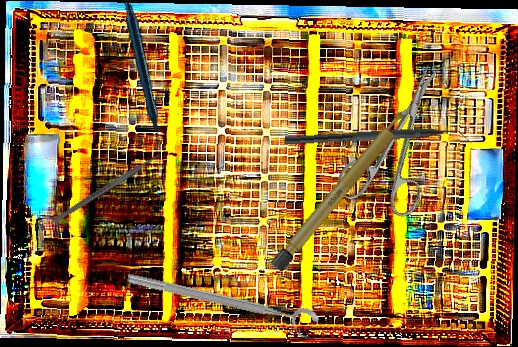Chopper: (283, 123, 474, 158)
Fixation Ring: (122, 267, 322, 343)
Handpiece: (73, 1, 210, 153)
Iris Scissors: (332, 50, 473, 227)
Scalpel Handle: (270, 105, 414, 273), (51, 151, 162, 225)
